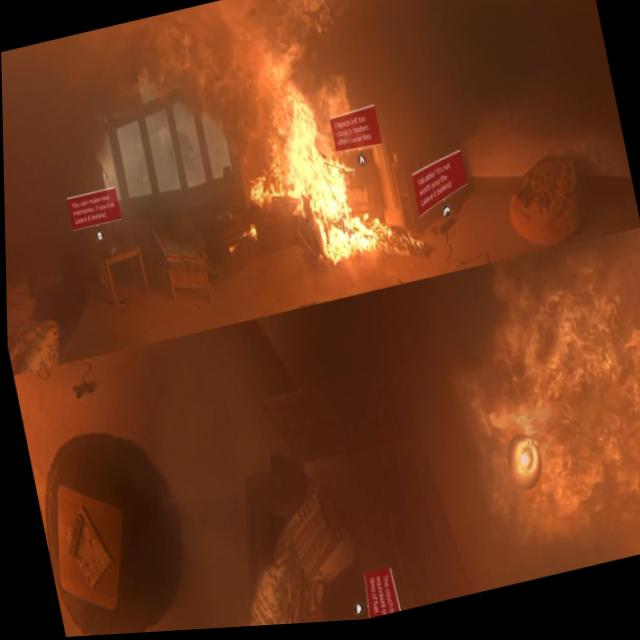fire: (231, 65, 413, 288)
